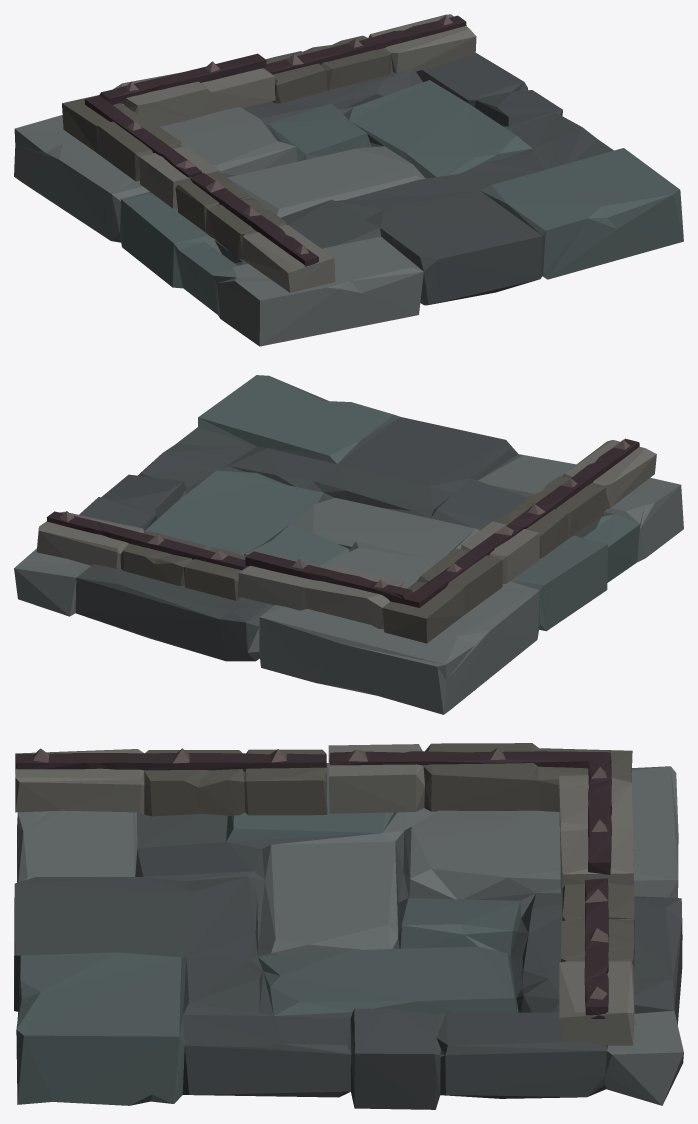
The model's file is MDungenon_StoneFloor_Corner_MBorder.FBX.
The picture shows the model from 3 angles, top to bottom: view 1: azimuth 30°, elevation 25°; view 2: azimuth 150°, elevation 25°; view 3: azimuth 270°, elevation 25°; orthographic projection. The views are drawn at different scales.
Visible parts, largest first — view 1: MDungenon_StoneFloor_MBorder_Corner_LOD0; view 2: MDungenon_StoneFloor_MBorder_Corner_LOD0; view 3: MDungenon_StoneFloor_MBorder_Corner_LOD0.
Part boxes in pixels (x1=…): MDungenon_StoneFloor_MBorder_Corner_LOD0: x1=14, y1=14, x2=683, y2=346; MDungenon_StoneFloor_MBorder_Corner_LOD0: x1=14, y1=375, x2=683, y2=714; MDungenon_StoneFloor_MBorder_Corner_LOD0: x1=14, y1=743, x2=683, y2=1109.
Size of what is drawn, in the model's own units: 6.11 by 1.28 by 6.03.
